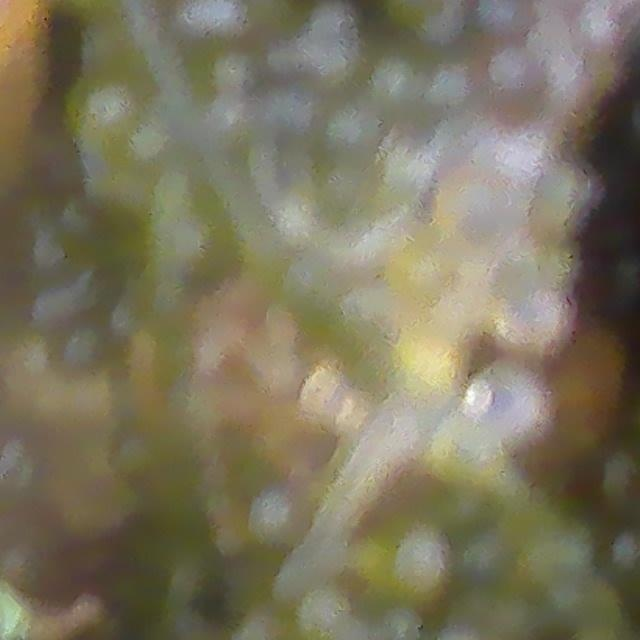SeaGrape: (438, 167, 520, 256), (471, 363, 543, 436), (509, 272, 571, 348), (462, 380, 495, 416)
